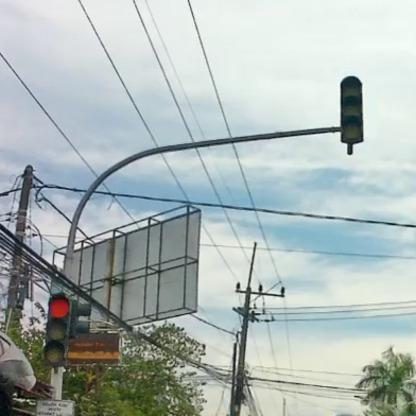red: (44, 293, 71, 364)
yellow: (338, 77, 364, 144)
